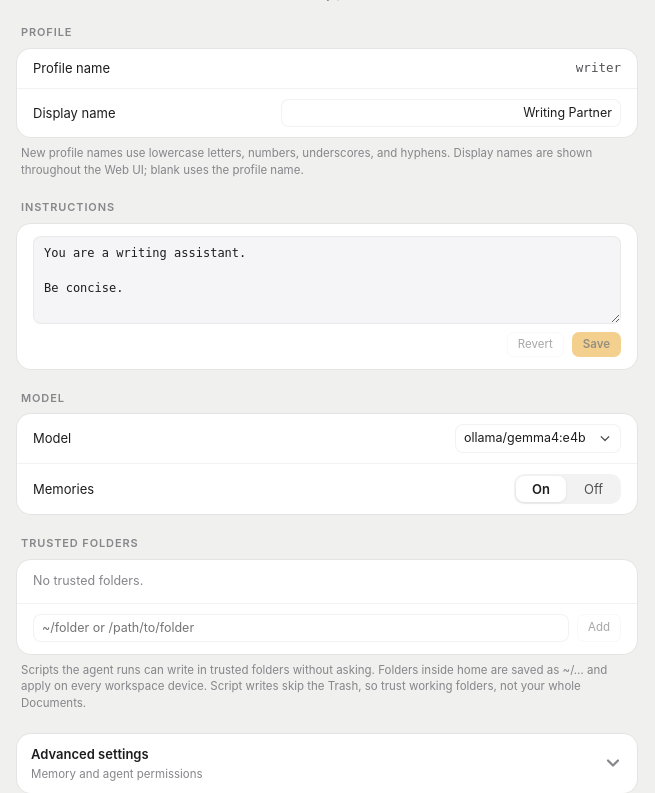
ProfileSettingsPage › keeps Advanced settings collapsed by default and lets the user expand it
The width and height of the screenshot is (655, 793).
(page scrolled)
Click the button "Advanced settings Memory and agent permissions" at (90, 754), box top-left (17, 734), bottom-right (637, 792)
(page scrolled)
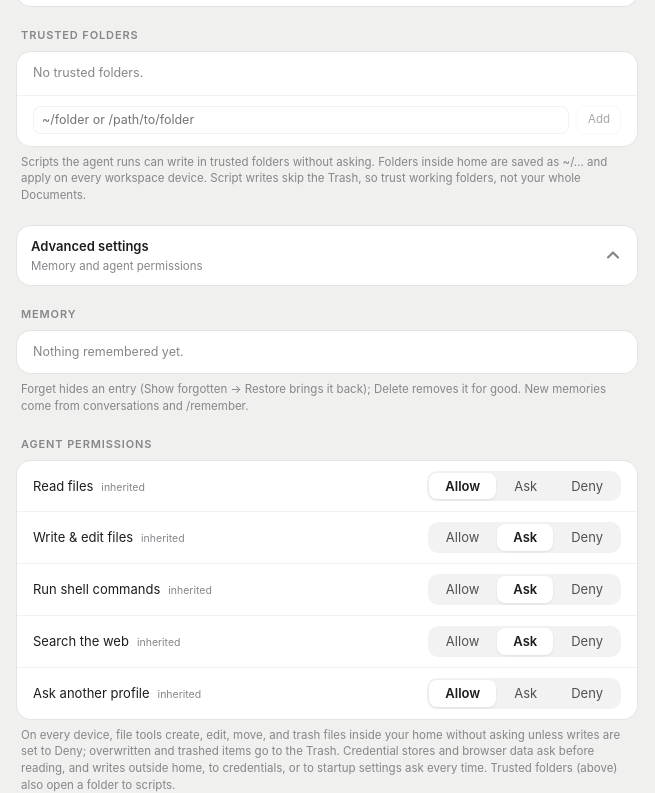
Result: the button "Advanced settings Memory and agent permissions" is expanded at top-left (17, 226), bottom-right (637, 285)
Result: the element "Memory" is shown at top-left (17, 307), bottom-right (637, 415)
Result: the text "Nothing remembered yet." is shown at top-left (33, 344), bottom-right (184, 359)
